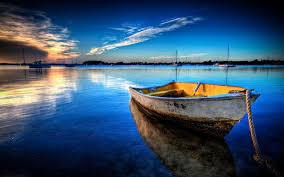boat: (129, 79, 261, 126)
